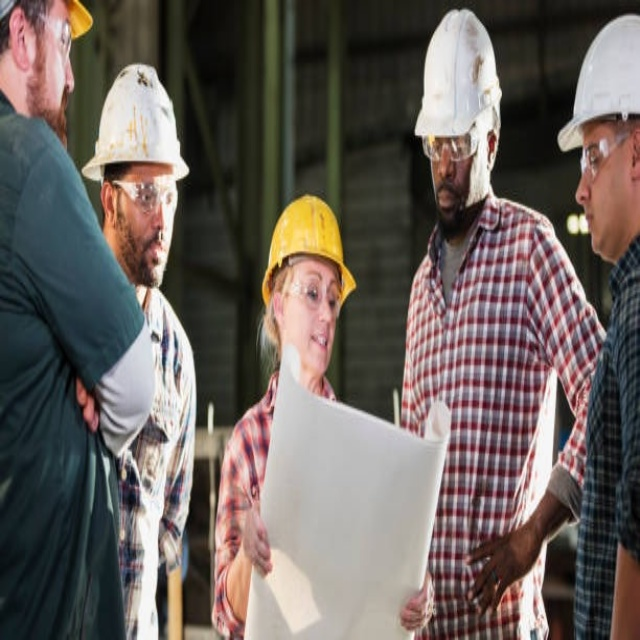Gafas: (579, 128, 636, 177), (283, 276, 344, 318), (24, 11, 74, 59), (113, 178, 180, 213), (424, 125, 483, 163), (63, 0, 93, 39)
Sin_guantes: (462, 520, 532, 620), (238, 491, 276, 579), (397, 569, 439, 632)
Sin_mascara: (434, 179, 459, 224), (582, 202, 605, 247), (50, 90, 71, 139), (142, 234, 166, 275), (305, 328, 333, 361)
